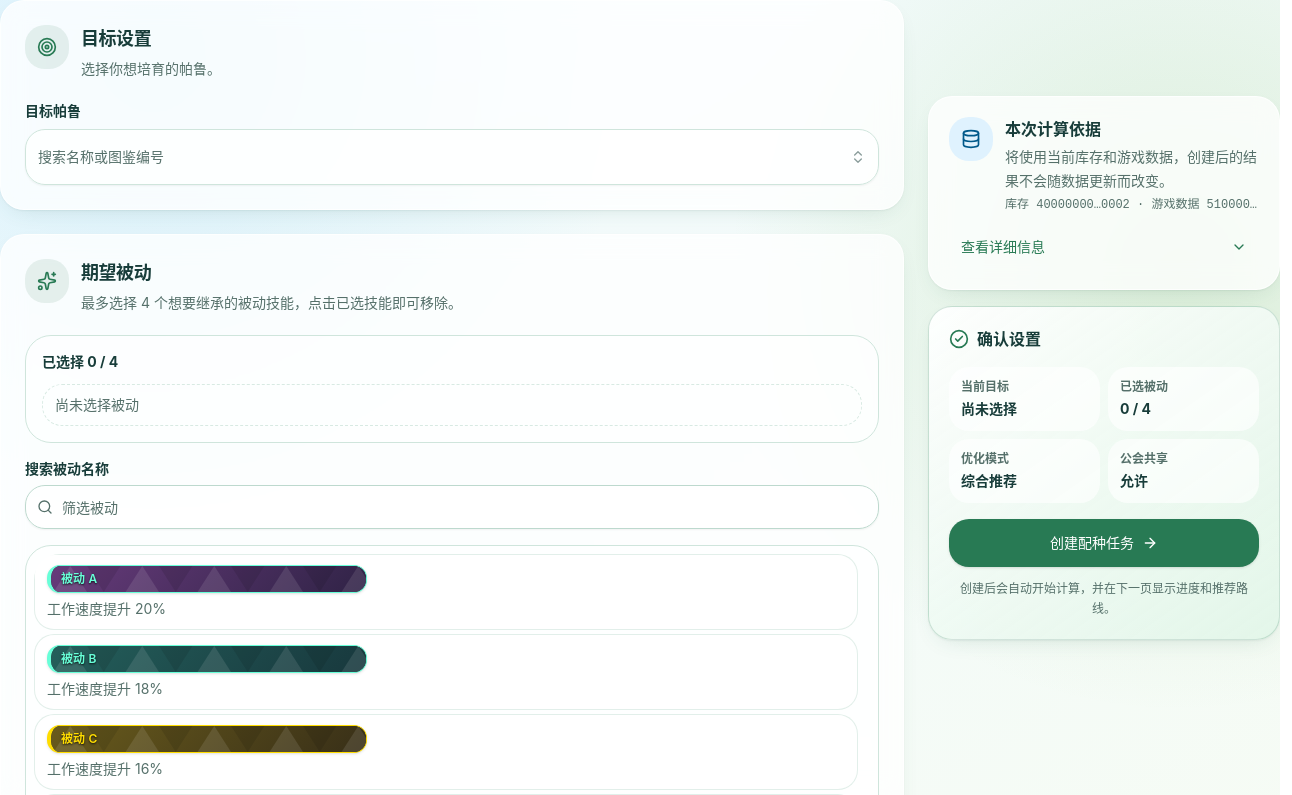
Scenario: Phase 6 breeder form › keeps the calculation details collapsed behind a readable summary
The width and height of the screenshot is (1292, 795).
Expected: the text "40000000-0000-4000-8000-000000000002" is not shown
Click the button "查看详细信息" at [1003, 246], box [949,225,1259,269]
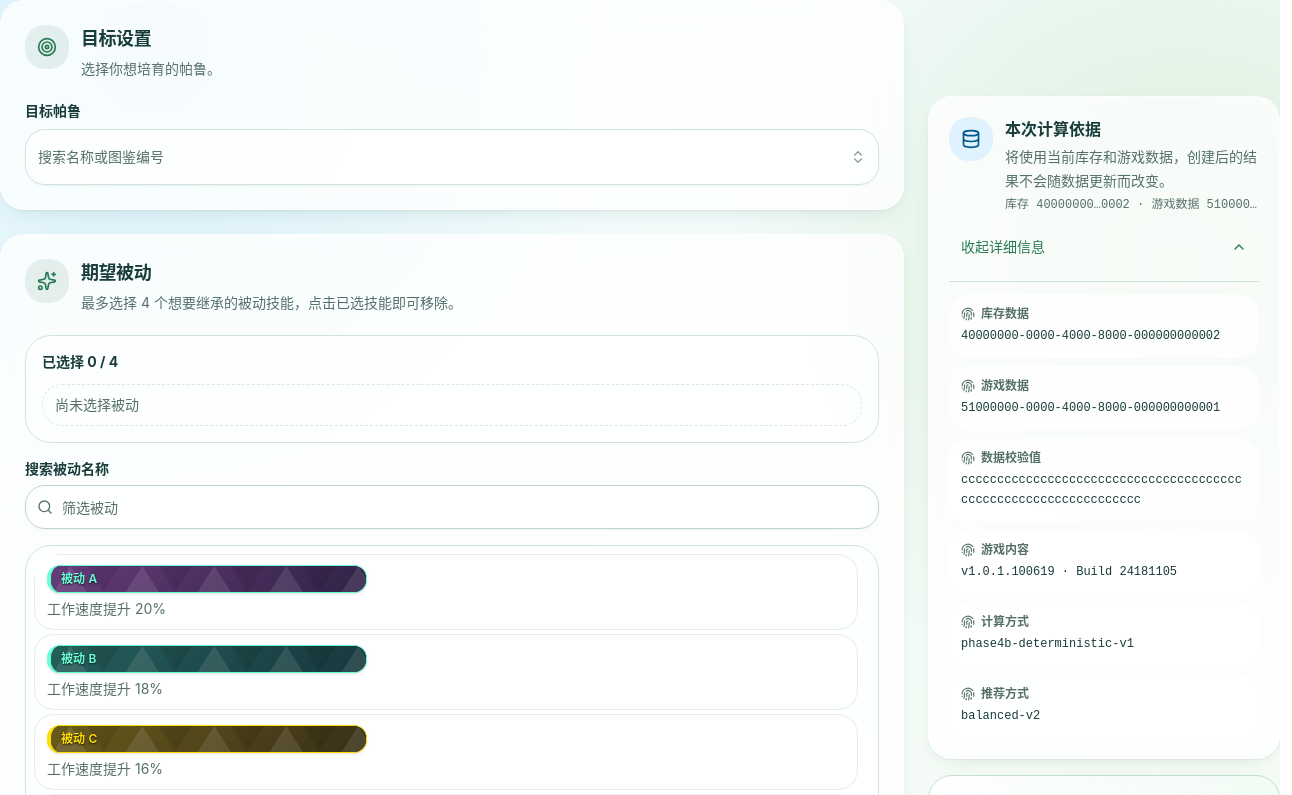
Expected: the text "40000000-0000-4000-8000-000000000002" is shown, [961,326,1247,346]
Expected: the text "phase4b-deterministic-v1" is shown, [961,637,1134,651]
